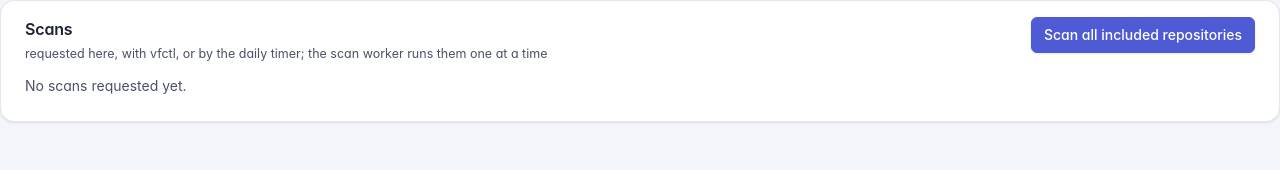
Scenario: the scan queue › queues every included repository as one batch
Click the button "Scan all included repositories" at point(1143, 35), box [1031,17,1255,53]
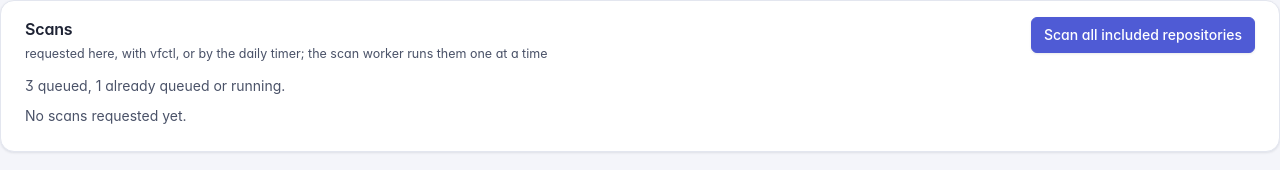
Now the text "3 queued, 1 already queued or running." is shown, box [25,77,285,94]
